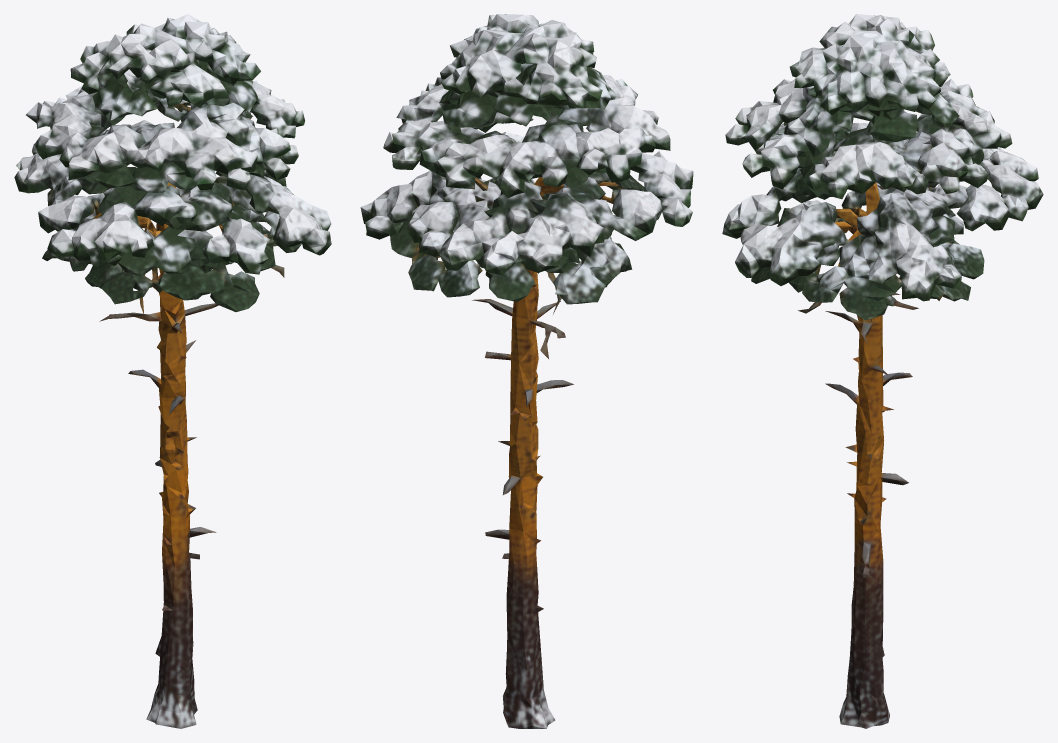
The model's file is pine_snow.obj.
3 renders of one model, left to right at view 1: azimuth 30°, elevation 25°; view 2: azimuth 150°, elevation 25°; view 3: azimuth 270°, elevation 25°, orthographic.
Visible parts, largest first — view 1: pine_snow; view 2: pine_snow; view 3: pine_snow.
Part boxes in pixels (left/top/right/bottom): pine_snow: left=14, top=14, right=331, bottom=728; pine_snow: left=360, top=14, right=693, bottom=728; pine_snow: left=722, top=14, right=1043, bottom=728.
Size of the model in its own units: 8.33 by 20 by 8.44.
Materials: 1 (1 with a texture image).
